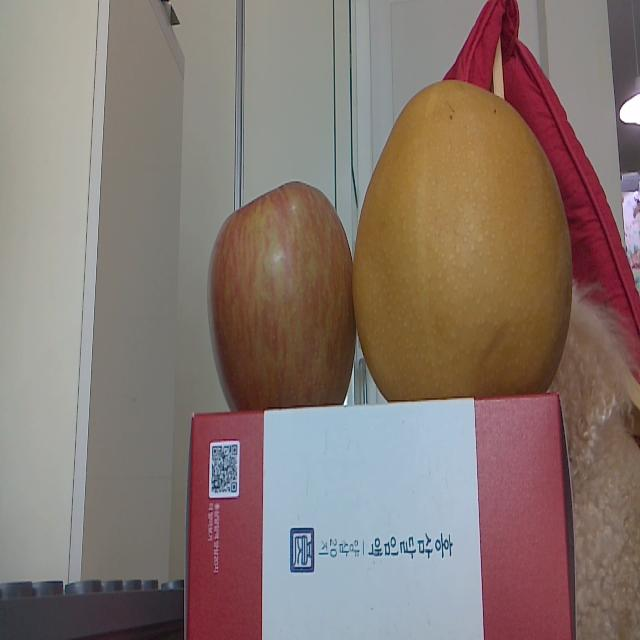apple: (204, 170, 358, 404)
pear: (358, 82, 578, 396)
